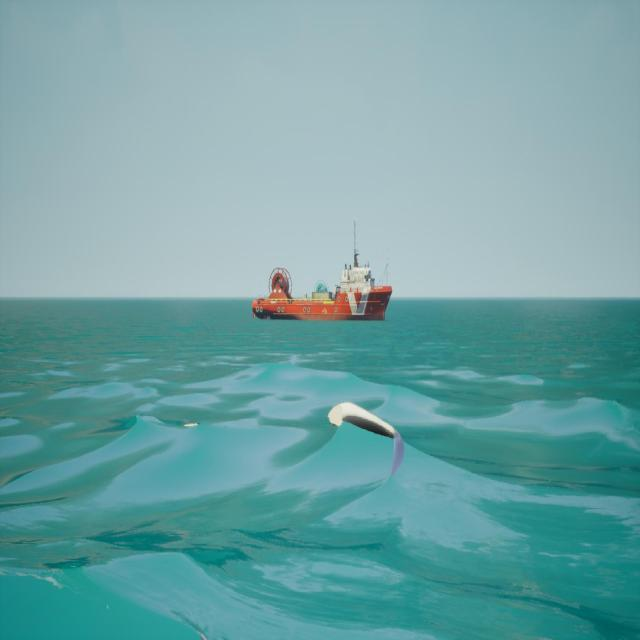tug boat: (254, 218, 395, 324)
